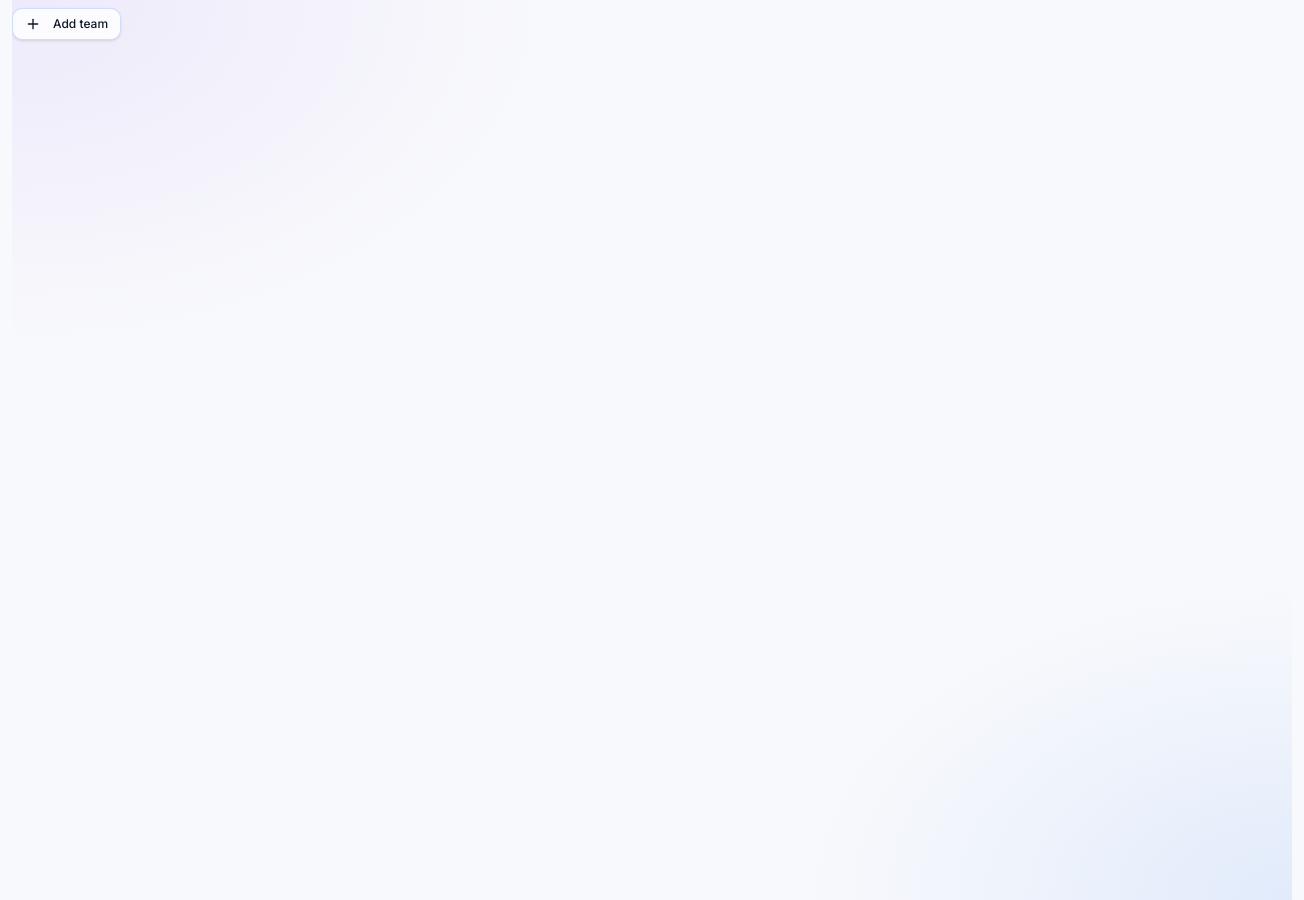
Scenario: admin quick team creation › keeps the name and shows server errors, then allows retry
Click the button with aria-label "Add team to Alpha Club" at x=67, y=24, box [12,8,121,40]
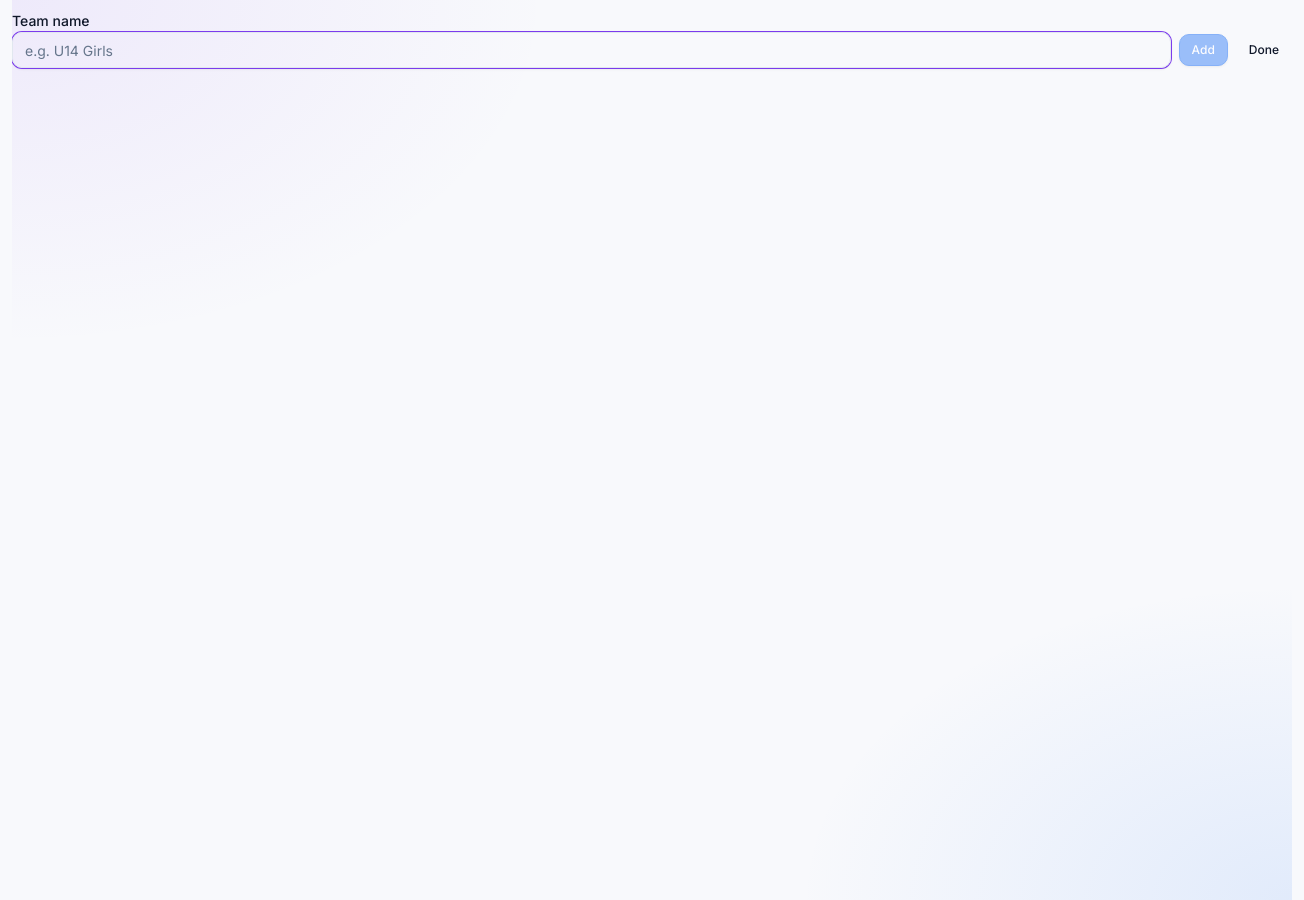
Type "U14 Girls" into the field labelled "Team name" at x=591, y=50, box [12,32,1171,68]
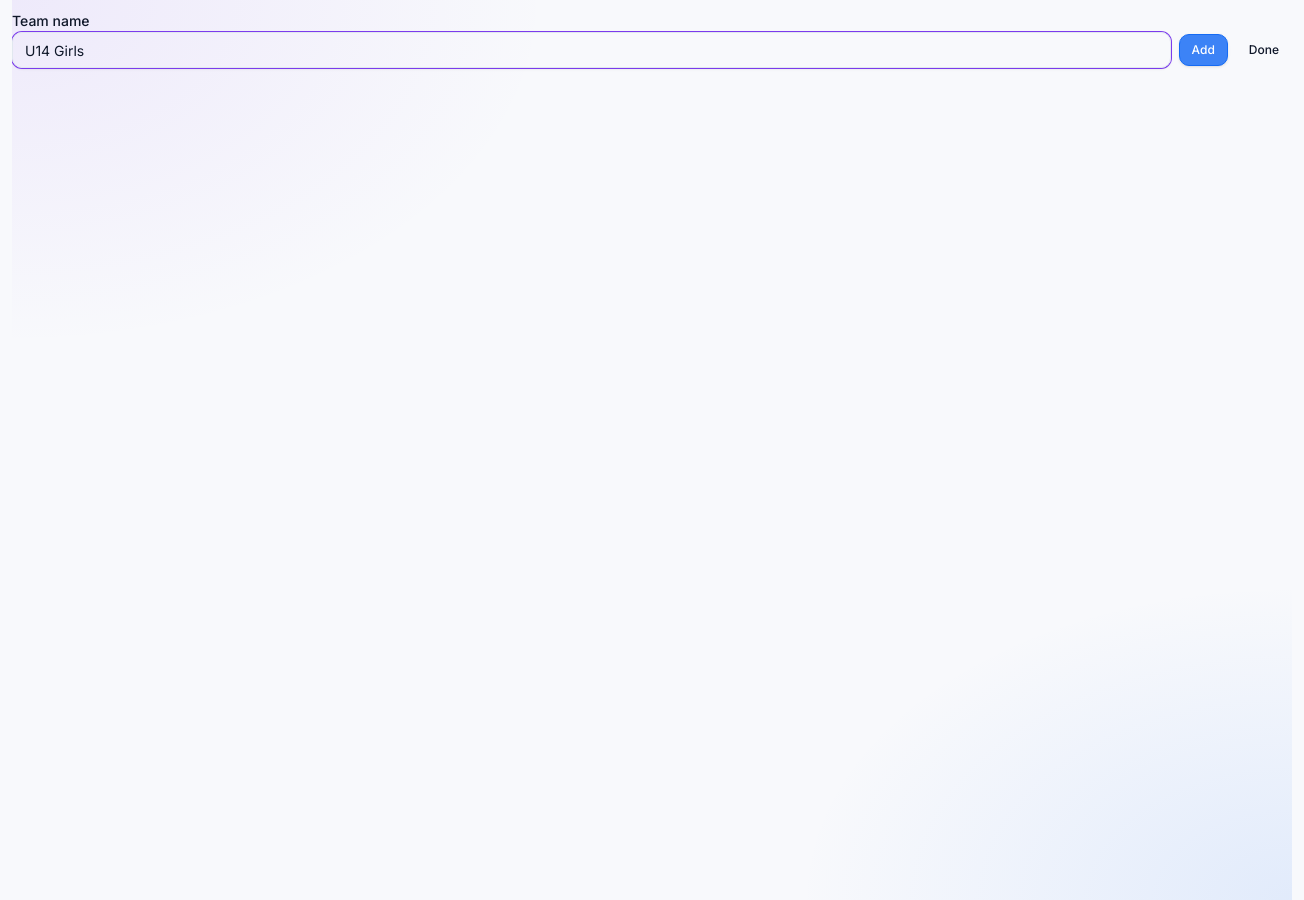
Click the button "Add" at x=1203, y=50, box [1179,34,1228,66]
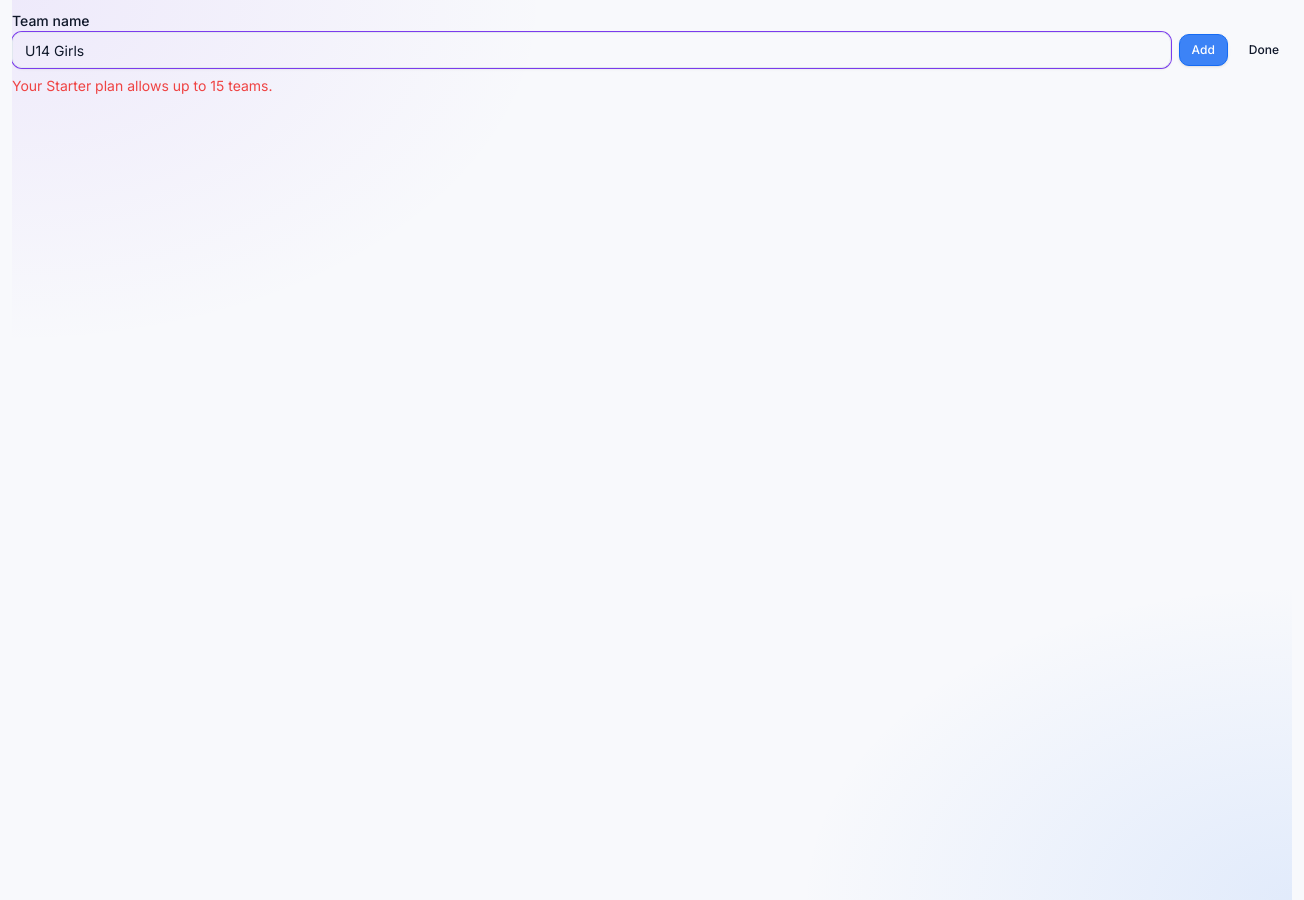
Check: the message shows "allows up to 15 teams", box [12,77,272,94]
Click the button "Add" at x=1203, y=50, box [1179,34,1228,66]
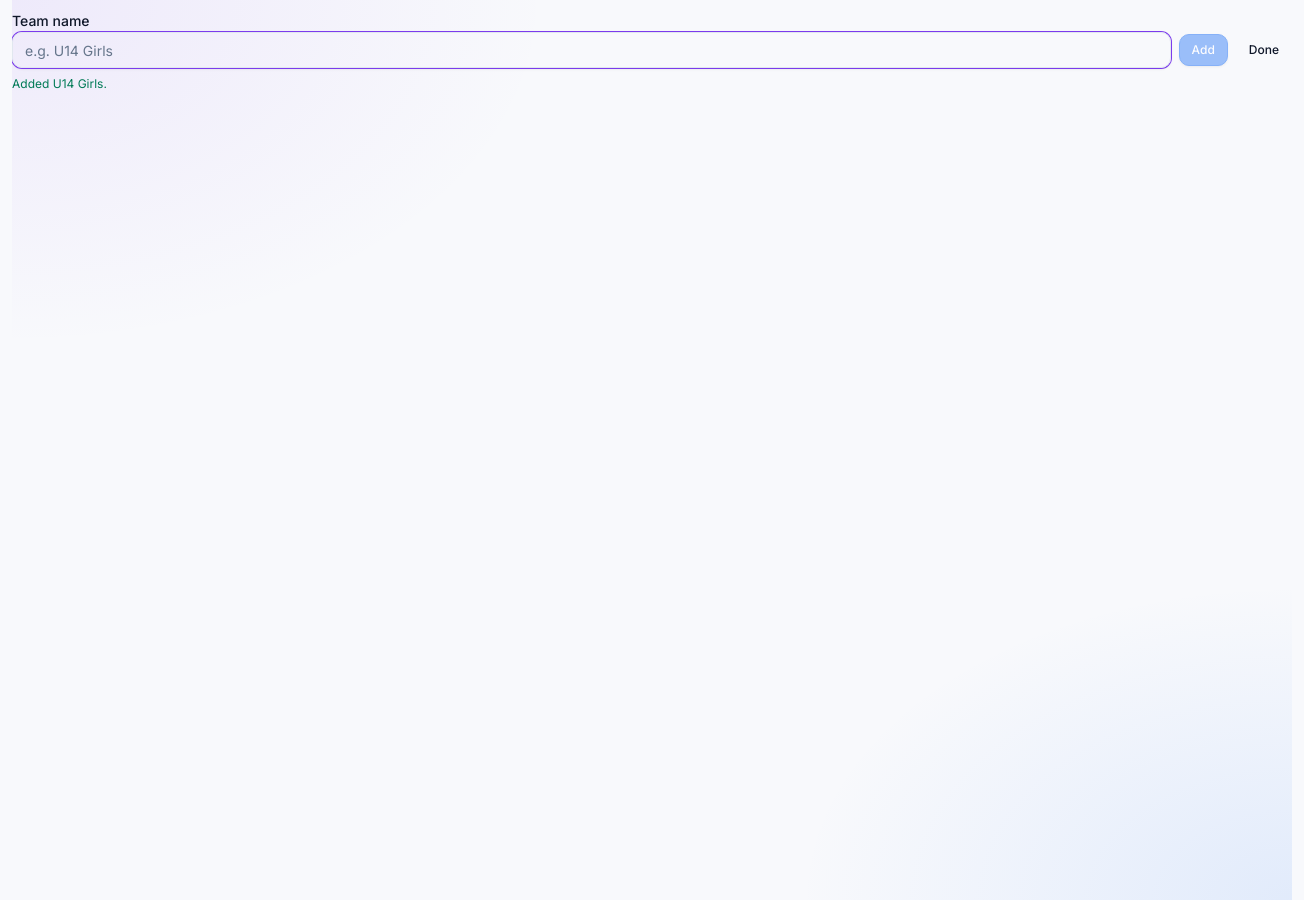
Check: the message reads "Added U14 Girls.", box [12,76,107,91]
